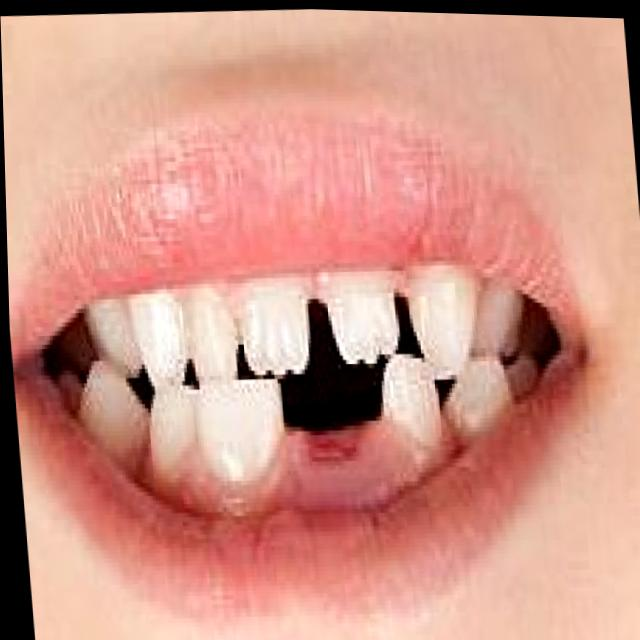hypodontia: (262, 369, 426, 495), (297, 287, 365, 370), (385, 282, 438, 357), (231, 301, 261, 370)
